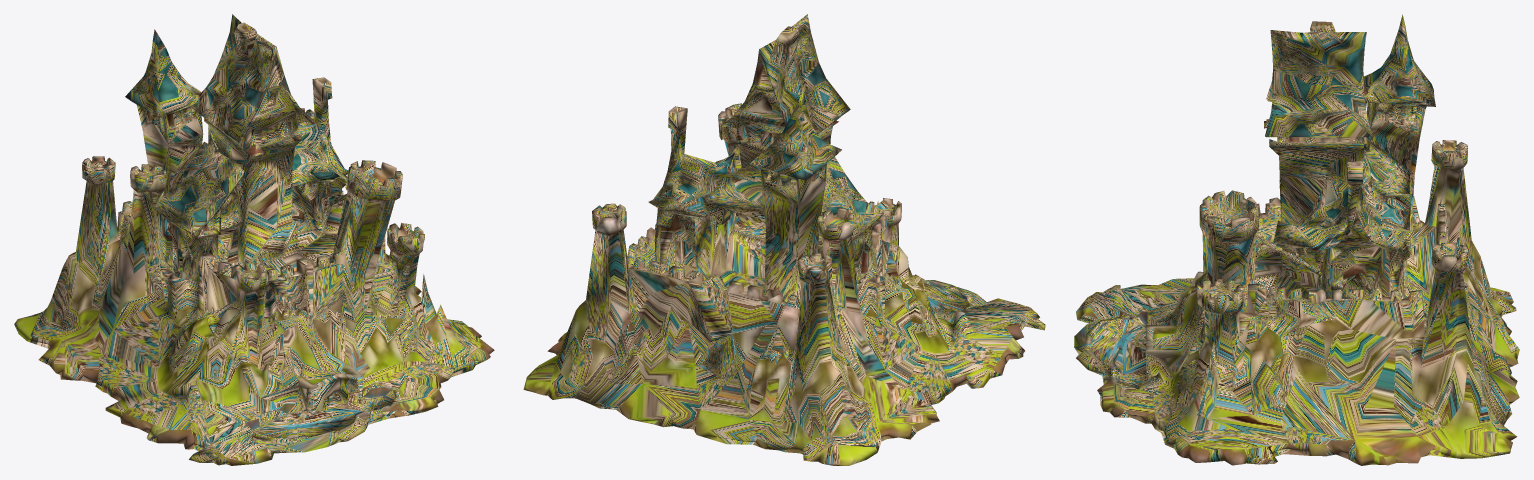
The model's file is Please_provide_an_ima.glb.
The picture shows the model from 3 angles, left to right: view 1: azimuth 30°, elevation 25°; view 2: azimuth 150°, elevation 25°; view 3: azimuth 270°, elevation 25°; orthographic projection. The views are drawn at different scales.
Parts seen in each view (by area): view 1: Please_provide_an_ima; view 2: Please_provide_an_ima; view 3: Please_provide_an_ima.
Part boxes in pixels (left/top/right/bottom): Please_provide_an_ima: left=14, top=14, right=494, bottom=465; Please_provide_an_ima: left=523, top=14, right=1045, bottom=465; Please_provide_an_ima: left=1074, top=14, right=1519, bottom=465.
Size of the model in its own units: 1.87 by 1.62 by 1.9.
Materials: 1 (1 with a texture image).
